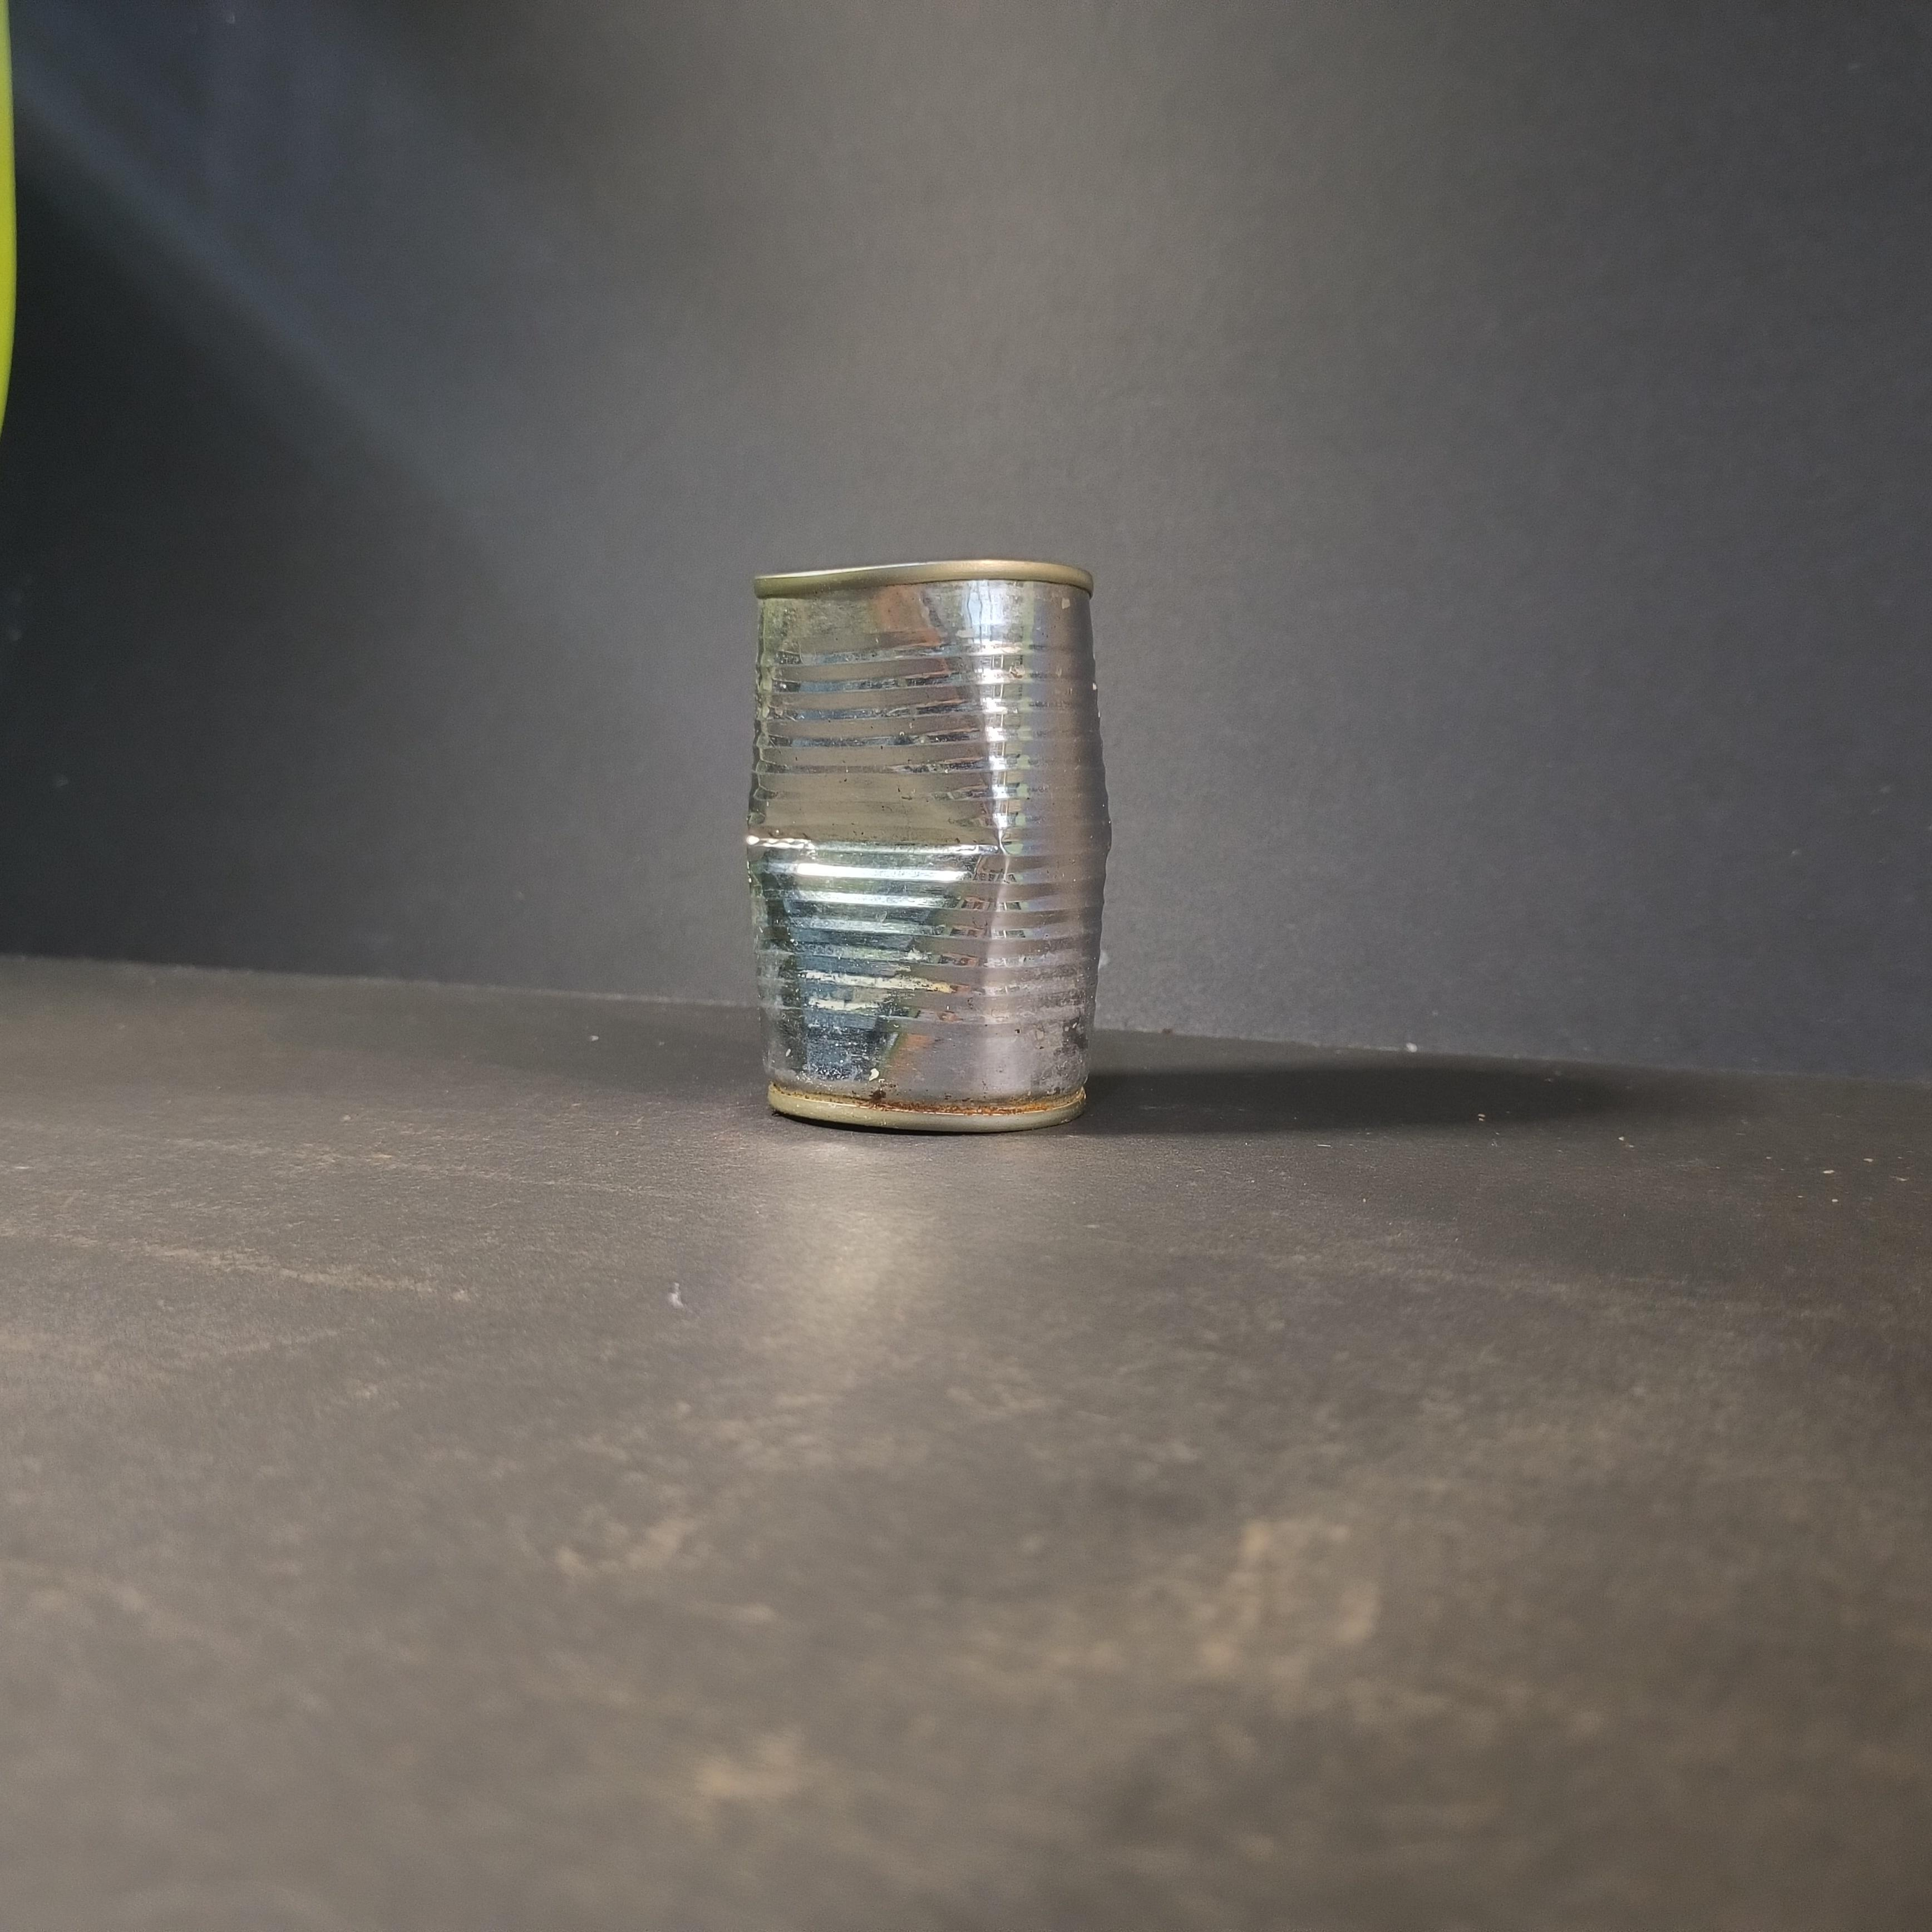Dented: (729, 548, 1136, 1162)
